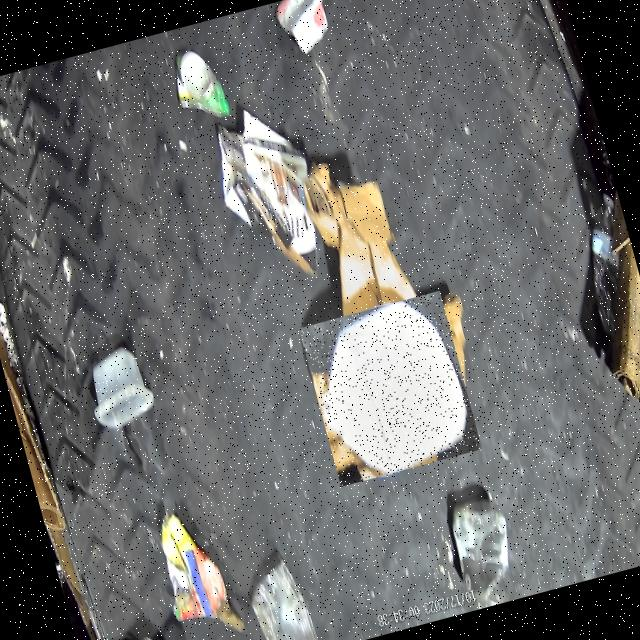milk-jug: (297, 289, 482, 486)
